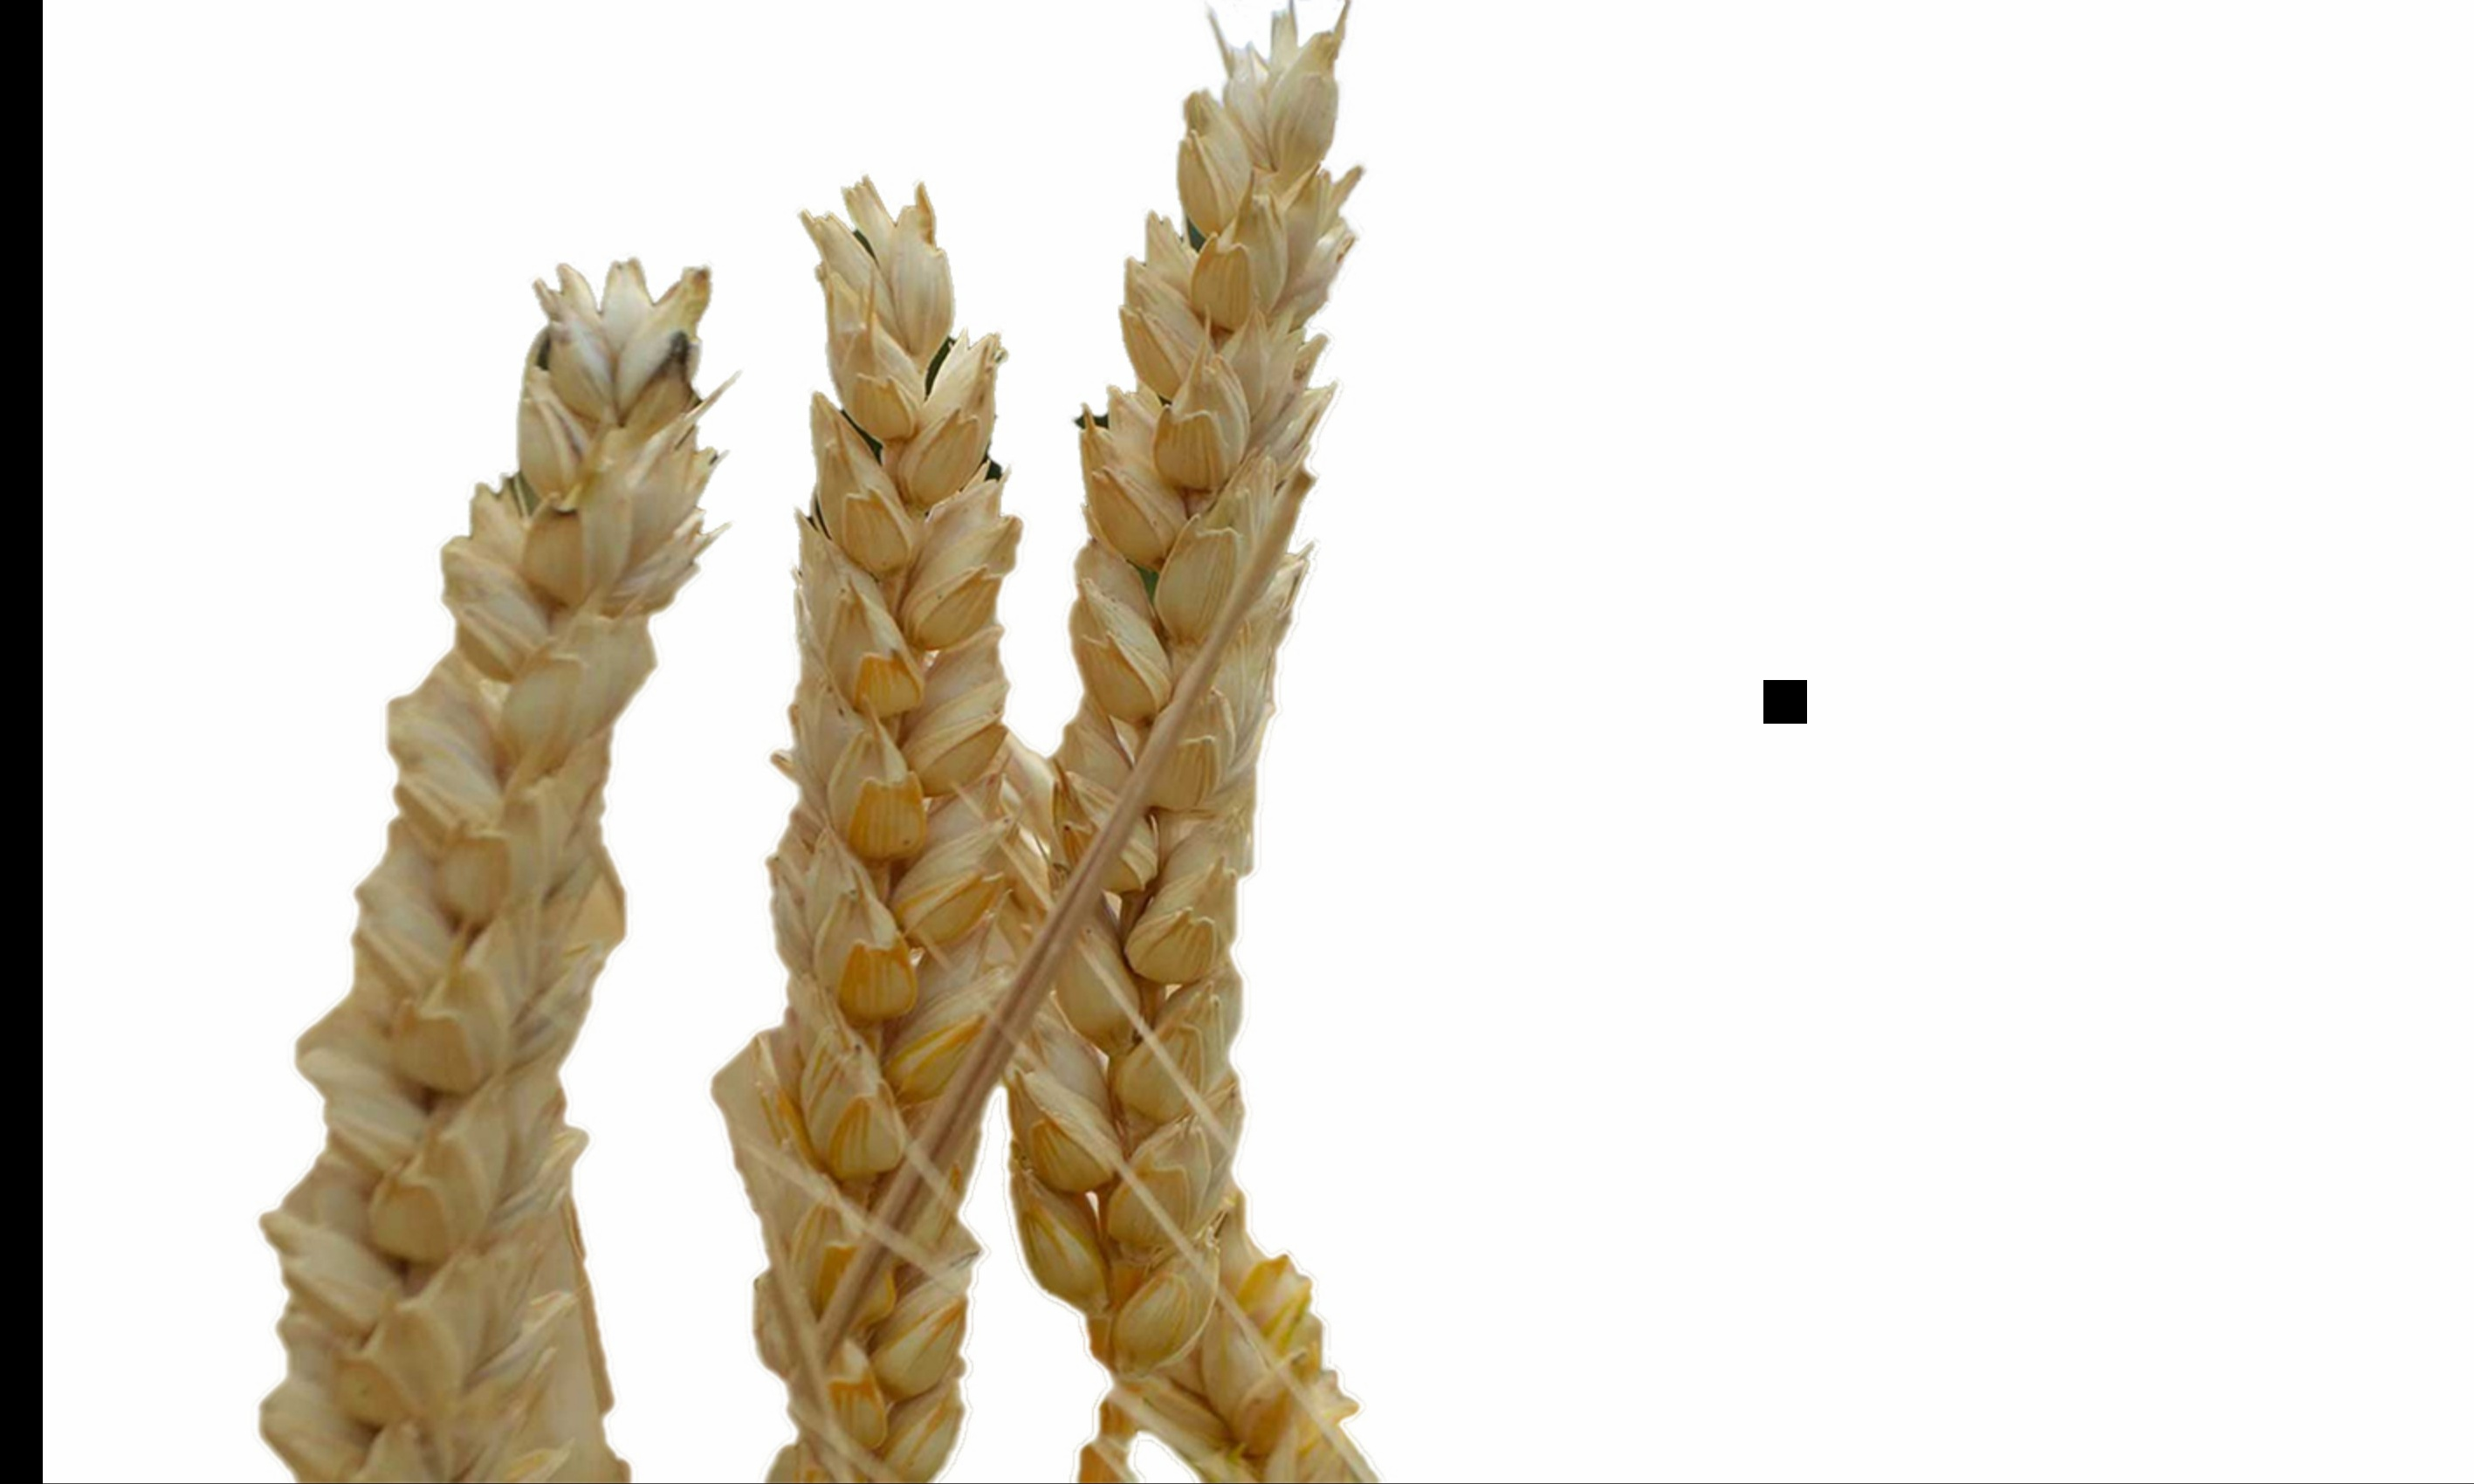wheat: (238, 249, 708, 1480), (1037, 14, 1386, 1465), (729, 127, 1033, 1475)
